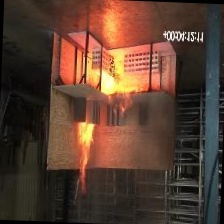fire: (58, 113, 121, 192), (88, 51, 144, 104)
